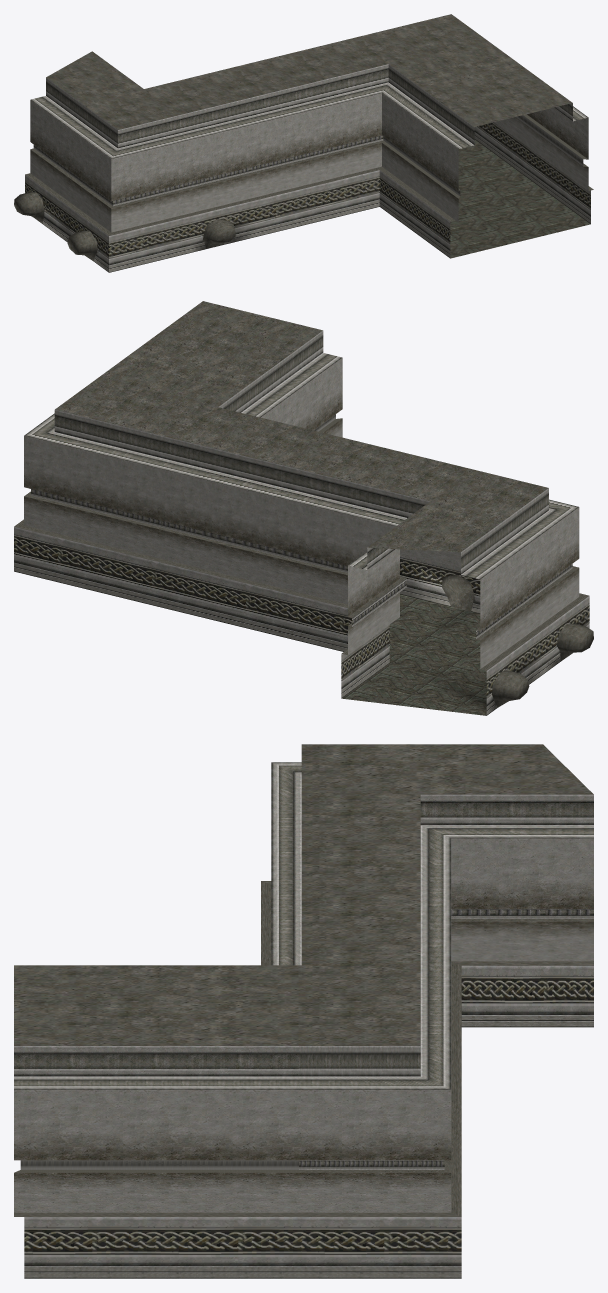
The model's file is DWARF_PALACE_FORGE_HALLWAY02B.fbx.
3 views of the same model, one above another, from view 1: azimuth 30°, elevation 25°; view 2: azimuth 150°, elevation 25°; view 3: azimuth 270°, elevation 25° (orthographic). The views are drawn at different scales.
Parts seen in each view (by area): view 1: DWARF_PALACE_FORGE_HALLWAY02B; view 2: DWARF_PALACE_FORGE_HALLWAY02B; view 3: DWARF_PALACE_FORGE_HALLWAY02B.
Part boxes in pixels (x1=…): DWARF_PALACE_FORGE_HALLWAY02B: x1=14, y1=14, x2=593, y2=272; DWARF_PALACE_FORGE_HALLWAY02B: x1=14, y1=301, x2=593, y2=715; DWARF_PALACE_FORGE_HALLWAY02B: x1=14, y1=744, x2=593, y2=1278.
Size of the model in its own units: 243978 by 70000 by 170721.
Materials: 7 (7 with a texture image).
